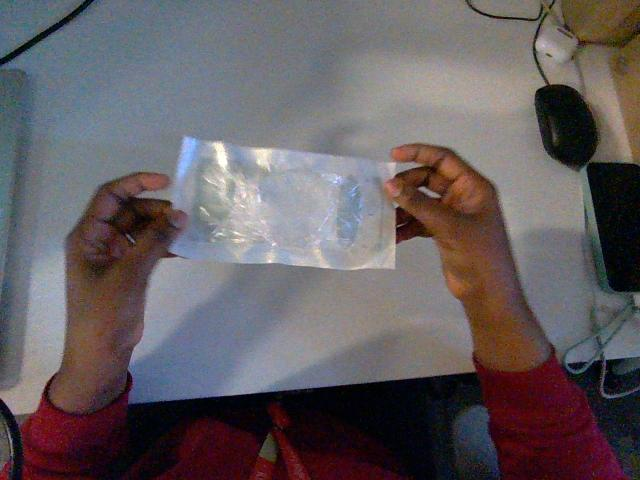gallipot: (171, 137, 394, 269)
